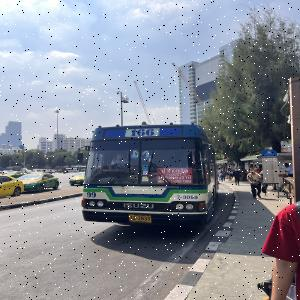BMTA-bus: (81, 124, 219, 228)
Bus Line Number: (126, 128, 160, 136)
Bus Side Number: (174, 193, 200, 202)
Destination Sign: (157, 167, 194, 184)
